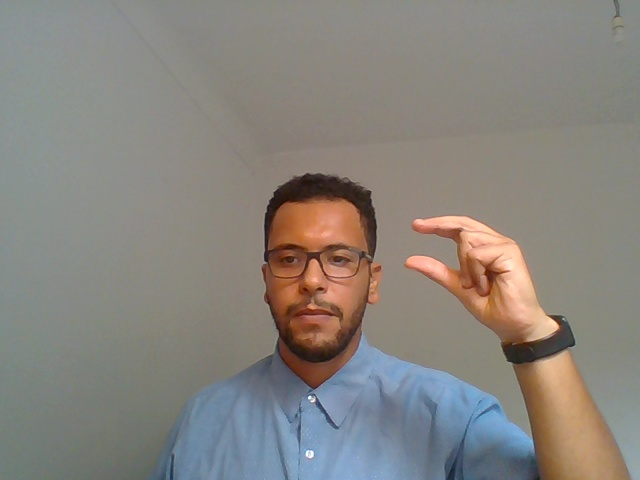no: (392, 190, 585, 392)
